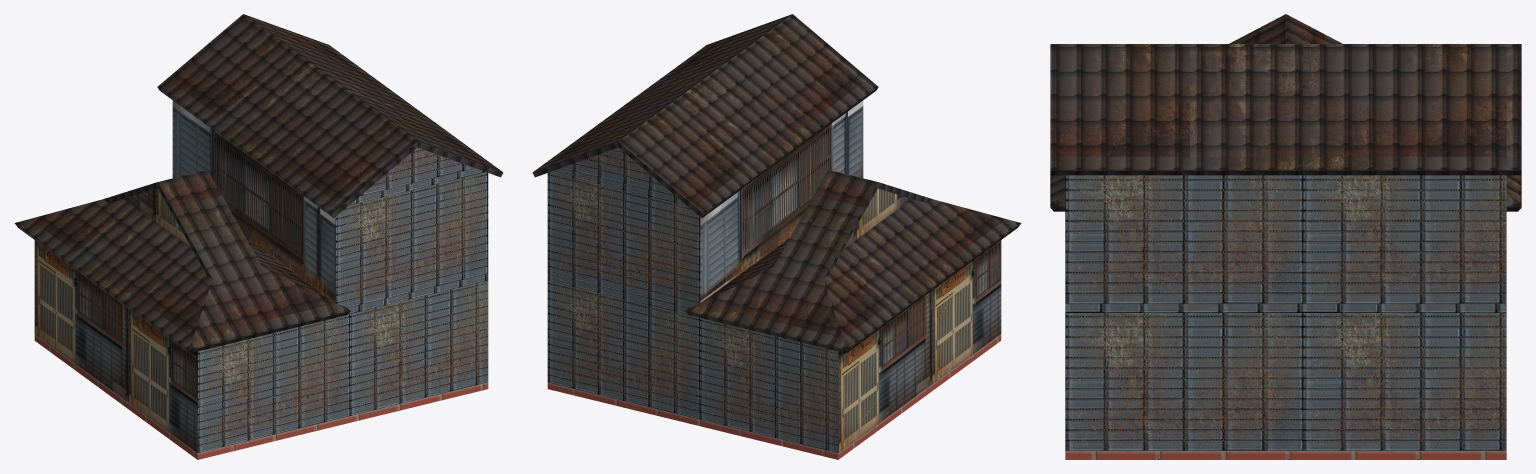
Rendered from psx_traditional_japanease_house_1.glb.
3 renders of one model, left to right at view 1: azimuth 30°, elevation 25°; view 2: azimuth 150°, elevation 25°; view 3: azimuth 270°, elevation 25°, orthographic. The views are drawn at different scales.
Visible parts, largest first — view 1: Wall_lY4mwwr2Rye8V6_-zrPZ4w_{9d18c877-5dce-4906-9981-7884f04, Roof Side_4gnmKglrQg60bywAYNJaLw_{0b7b2f76-2b9d-4178-94f6-ae, Wall_l_bU3bIsSIeTAYQHcx54Gw_{62d991b5-b078-4bd0-8659-304776d, Wall_dlR5rfEASZ6Ksx5eTcJmKw_{d1323904-72b8-4898-84a5-eae074d, Segmented Roof Side_9VQaRm3tQTWNDshGN_FC3Q_{0b7b2f76-2b9d-41, Roof Side_A-VaKQRuQtu_Lwx1f0_uNQ_{0b7b2f76-2b9d-4178-94f6-ae, Wall_ZHt3GDXuQy--6mqW5GK1zA_{b9400a6d-6b2c-4061-b723-602da33, Roof Side_x84dtA5nR2qmMClRa-Ad2Q_{0b7b2f76-2b9d-4178-94f6-ae, Slab_jqlJEN-ZQHeh4RA5_siOGg_{7aab4d66-75f4-6743-bfdb-e7d7289, Roof Gable_QwT22igmT5eSFRnZ0mrfwg_{3d0032f5-eb90-4dac-aa69-b, Segmented Roof Side_9VQaRm3tQTWNDshGN_FC3Q_{d1323904-72b8-48, Slab_ioM-SYCDTPSa1XqCcOOD6A_{fbb98cd1-45a2-4d2d-b9b8-98cf06d (+5 smaller); view 2: Wall_qMe9xNDySWaxML2SCIhf_Q_{b5f40a17-a730-4a3c-9408-ad950c9, Roof Side_4gnmKglrQg60bywAYNJaLw_{0b7b2f76-2b9d-4178-94f6-ae, Wall_-J8GY64GSryGTKW-pPBN7A_{c0193ead-c472-4f83-a68e-edc7d1f, Wall_dlR5rfEASZ6Ksx5eTcJmKw_{d1323904-72b8-4898-84a5-eae074d, Segmented Roof Side_9VQaRm3tQTWNDshGN_FC3Q_{0b7b2f76-2b9d-41, Roof Side__27EKTDhRWCs6h4kydCsag_{0b7b2f76-2b9d-4178-94f6-ae, Wall_ZHt3GDXuQy--6mqW5GK1zA_{b9400a6d-6b2c-4061-b723-602da33, Roof Side_x84dtA5nR2qmMClRa-Ad2Q_{0b7b2f76-2b9d-4178-94f6-ae, Slab_jqlJEN-ZQHeh4RA5_siOGg_{7aab4d66-75f4-6743-bfdb-e7d7289, Roof Gable_D-Srw8xiTtWMVwxzJaEpag_{a3a165d2-a896-4456-8ebf-3, Segmented Roof Side_9VQaRm3tQTWNDshGN_FC3Q_{d1323904-72b8-48, Slab_ioM-SYCDTPSa1XqCcOOD6A_{f4515d30-6f3c-4b12-ae0f-baa0a58 (+5 smaller); view 3: Wall_dWv88StaRdKwyKSPsNrPNg_{17c6c84a-fb77-4817-a8e5-efdc0ee, Roof Side_x84dtA5nR2qmMClRa-Ad2Q_{0b7b2f76-2b9d-4178-94f6-ae, Wall_1a1NmXUaT_O00-up3QWaOA_{d6689b18-0d21-4ec4-aac5-0362b77, Slab_jqlJEN-ZQHeh4RA5_siOGg_{7aab4d66-75f4-6743-bfdb-e7d7289, Slab_ioM-SYCDTPSa1XqCcOOD6A_{c47a4b58-c1d0-46cc-b2c8-8a33261, Roof Side_x84dtA5nR2qmMClRa-Ad2Q_{5b60cfa5-da12-47a4-9dbe-22, Roof Side__27EKTDhRWCs6h4kydCsag_{0b7b2f76-2b9d-4178-94f6-ae, Roof Side_A-VaKQRuQtu_Lwx1f0_uNQ_{0b7b2f76-2b9d-4178-94f6-ae.
Boxes of the visible parts, bbox=[...] form: Wall_lY4mwwr2Rye8V6_-zrPZ4w_{9d18c877-5dce-4906-9981-7884f04: bbox=[197, 280, 488, 452]; Roof Side_4gnmKglrQg60bywAYNJaLw_{0b7b2f76-2b9d-4178-94f6-ae: bbox=[157, 14, 417, 214]; Wall_l_bU3bIsSIeTAYQHcx54Gw_{62d991b5-b078-4bd0-8659-304776d: bbox=[335, 172, 488, 307]; Wall_dlR5rfEASZ6Ksx5eTcJmKw_{d1323904-72b8-4898-84a5-eae074d: bbox=[34, 240, 197, 452]; Segmented Roof Side_9VQaRm3tQTWNDshGN_FC3Q_{0b7b2f76-2b9d-41: bbox=[14, 199, 212, 350]; Roof Side_A-VaKQRuQtu_Lwx1f0_uNQ_{0b7b2f76-2b9d-4178-94f6-ae: bbox=[158, 170, 350, 350]; Wall_ZHt3GDXuQy--6mqW5GK1zA_{b9400a6d-6b2c-4061-b723-602da33: bbox=[172, 100, 335, 302]; Roof Side_x84dtA5nR2qmMClRa-Ad2Q_{0b7b2f76-2b9d-4178-94f6-ae: bbox=[244, 14, 502, 172]; Slab_jqlJEN-ZQHeh4RA5_siOGg_{7aab4d66-75f4-6743-bfdb-e7d7289: bbox=[34, 334, 488, 459]; Roof Gable_QwT22igmT5eSFRnZ0mrfwg_{3d0032f5-eb90-4dac-aa69-b: bbox=[361, 147, 474, 195]; Segmented Roof Side_9VQaRm3tQTWNDshGN_FC3Q_{d1323904-72b8-48: bbox=[124, 188, 191, 248]; Slab_ioM-SYCDTPSa1XqCcOOD6A_{fbb98cd1-45a2-4d2d-b9b8-98cf06d: bbox=[347, 273, 488, 314]; Wall_qMe9xNDySWaxML2SCIhf_Q_{b5f40a17-a730-4a3c-9408-ad950c9: bbox=[547, 280, 838, 452]; Roof Side_4gnmKglrQg60bywAYNJaLw_{0b7b2f76-2b9d-4178-94f6-ae: bbox=[618, 14, 878, 214]; Wall_-J8GY64GSryGTKW-pPBN7A_{c0193ead-c472-4f83-a68e-edc7d1f: bbox=[547, 172, 700, 307]; Wall_dlR5rfEASZ6Ksx5eTcJmKw_{d1323904-72b8-4898-84a5-eae074d: bbox=[838, 240, 1001, 452]; Segmented Roof Side_9VQaRm3tQTWNDshGN_FC3Q_{0b7b2f76-2b9d-41: bbox=[823, 199, 1021, 350]; Roof Side__27EKTDhRWCs6h4kydCsag_{0b7b2f76-2b9d-4178-94f6-ae: bbox=[685, 170, 877, 350]; Wall_ZHt3GDXuQy--6mqW5GK1zA_{b9400a6d-6b2c-4061-b723-602da33: bbox=[700, 100, 863, 302]; Roof Side_x84dtA5nR2qmMClRa-Ad2Q_{0b7b2f76-2b9d-4178-94f6-ae: bbox=[533, 14, 791, 172]; Slab_jqlJEN-ZQHeh4RA5_siOGg_{7aab4d66-75f4-6743-bfdb-e7d7289: bbox=[547, 334, 1001, 459]; Roof Gable_D-Srw8xiTtWMVwxzJaEpag_{a3a165d2-a896-4456-8ebf-3: bbox=[561, 147, 674, 195]; Segmented Roof Side_9VQaRm3tQTWNDshGN_FC3Q_{d1323904-72b8-48: bbox=[844, 188, 911, 248]; Slab_ioM-SYCDTPSa1XqCcOOD6A_{f4515d30-6f3c-4b12-ae0f-baa0a58: bbox=[547, 273, 688, 314]; Wall_dWv88StaRdKwyKSPsNrPNg_{17c6c84a-fb77-4817-a8e5-efdc0ee: bbox=[1065, 313, 1506, 450]; Roof Side_x84dtA5nR2qmMClRa-Ad2Q_{0b7b2f76-2b9d-4178-94f6-ae: bbox=[1050, 44, 1521, 170]; Wall_1a1NmXUaT_O00-up3QWaOA_{d6689b18-0d21-4ec4-aac5-0362b77: bbox=[1065, 175, 1506, 303]; Slab_jqlJEN-ZQHeh4RA5_siOGg_{7aab4d66-75f4-6743-bfdb-e7d7289: bbox=[1065, 450, 1506, 459]; Slab_ioM-SYCDTPSa1XqCcOOD6A_{c47a4b58-c1d0-46cc-b2c8-8a33261: bbox=[1065, 303, 1506, 312]; Roof Side_x84dtA5nR2qmMClRa-Ad2Q_{5b60cfa5-da12-47a4-9dbe-22: bbox=[1050, 171, 1521, 175]; Roof Side__27EKTDhRWCs6h4kydCsag_{0b7b2f76-2b9d-4178-94f6-ae: bbox=[1286, 14, 1521, 206]; Roof Side_A-VaKQRuQtu_Lwx1f0_uNQ_{0b7b2f76-2b9d-4178-94f6-ae: bbox=[1050, 14, 1285, 206].
Bounding box in the file's own units: 9.7 × 7.96 × 9.3.
Materials: 25 (22 with a texture image).
